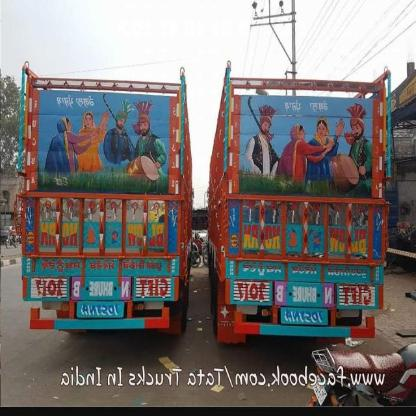truck: (18, 58, 195, 344), (204, 76, 387, 338)
